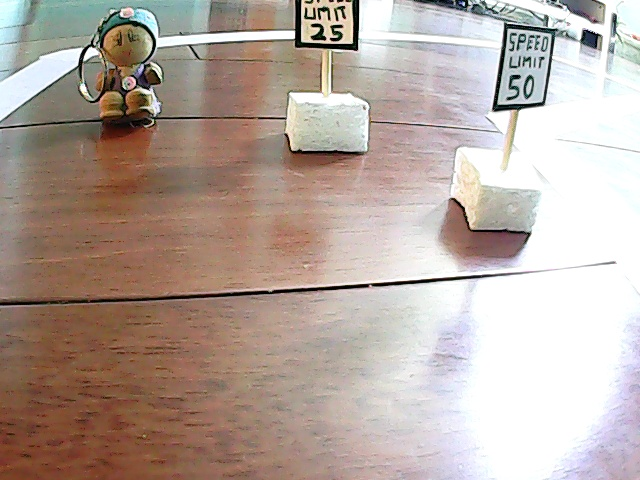pedestrain: (84, 8, 169, 121)
speed_25: (287, 1, 382, 152)
speed_50: (469, 22, 562, 239)
